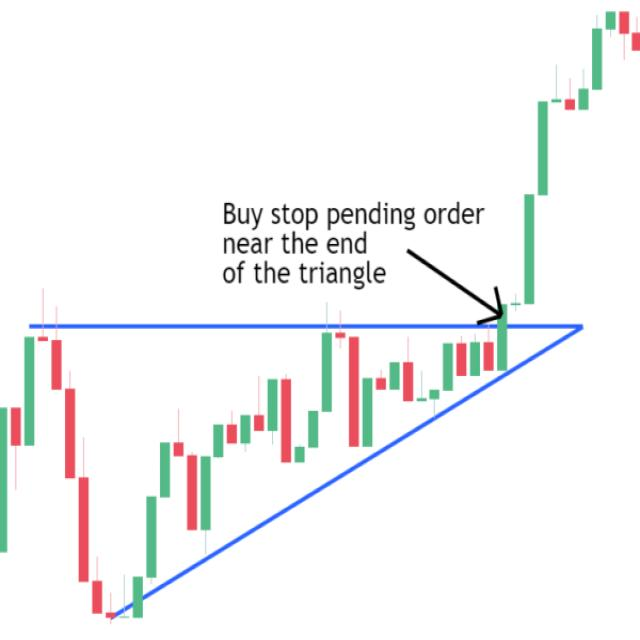Ascending-Triangle: (23, 326, 588, 640)
